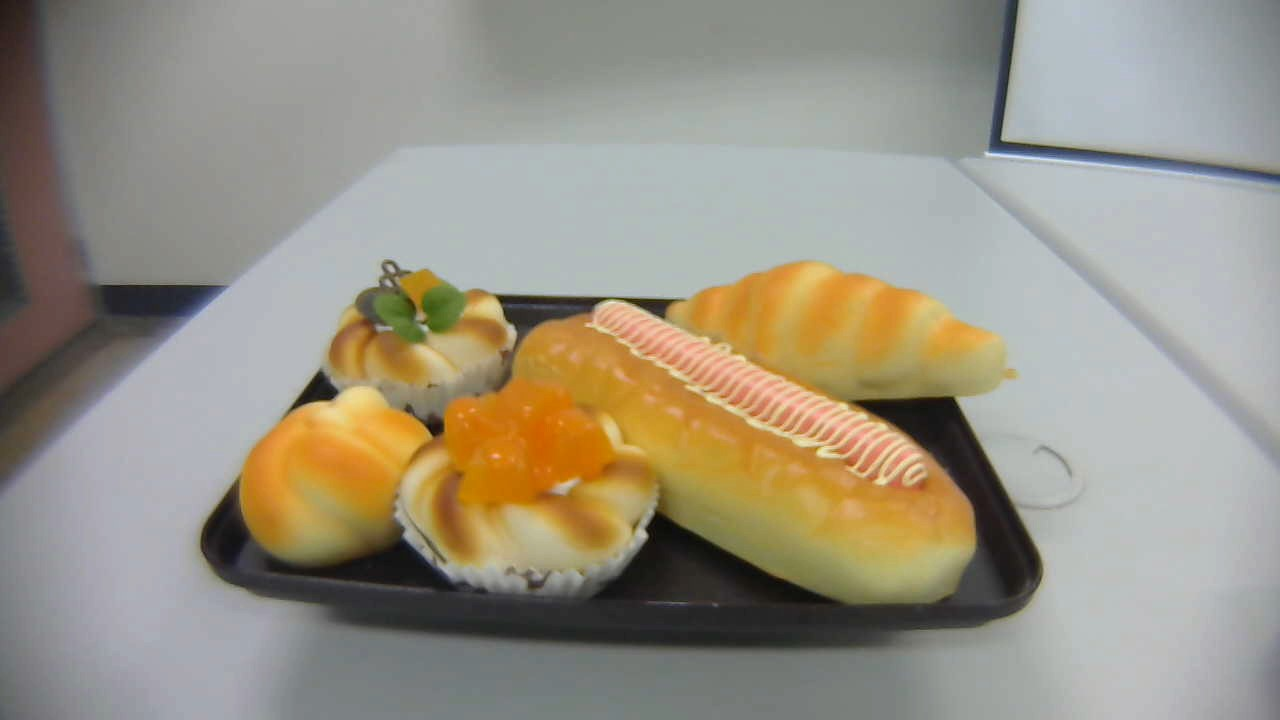croissant: (666, 261, 1020, 402)
fruit tart: (321, 258, 519, 422)
hot dog: (515, 300, 978, 604)
mango tart: (397, 382, 659, 598)
twist bread: (238, 388, 436, 567)
